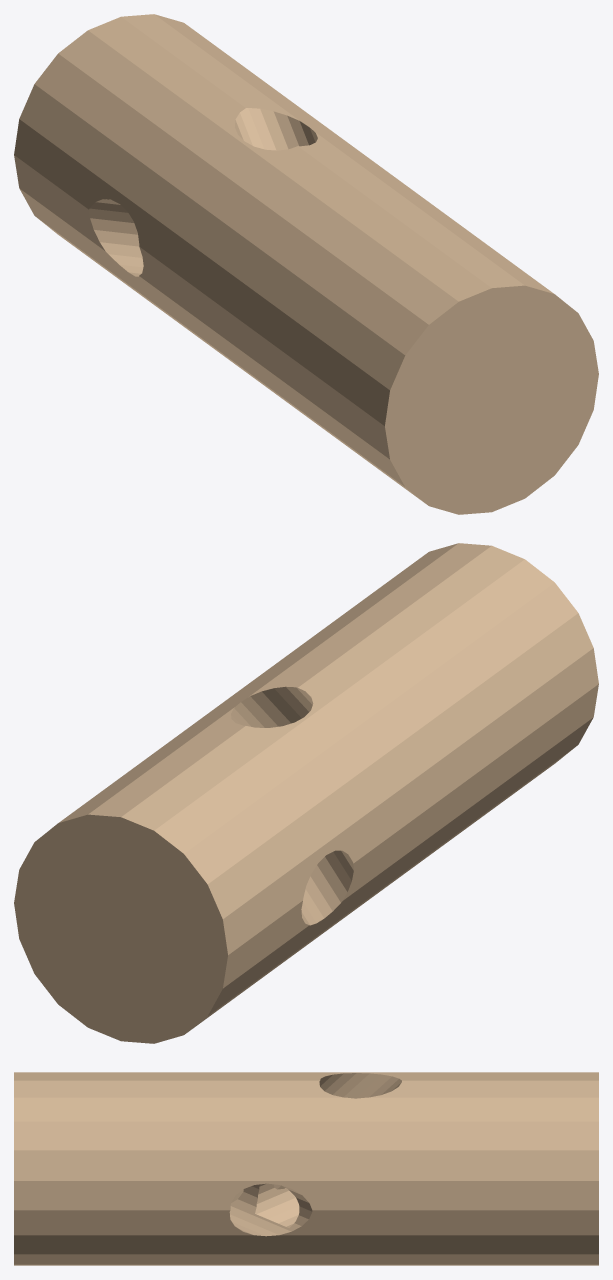
The model's file is tinker6.gltf.
3 views of the same model, one above another, from view 1: azimuth 30°, elevation 25°; view 2: azimuth 150°, elevation 25°; view 3: azimuth 270°, elevation 25° (orthographic). The views are drawn at different scales.
Parts seen in each view (by area): view 1: group_0_11107152; view 2: group_0_11107152; view 3: group_0_11107152.
Boxes of the visible parts, x1,y1,x2,y2 form: group_0_11107152: (14,14,598,514); group_0_11107152: (14,543,598,1043); group_0_11107152: (14,1072,598,1265).
Size of the model in its own units: 100 by 100 by 300.
